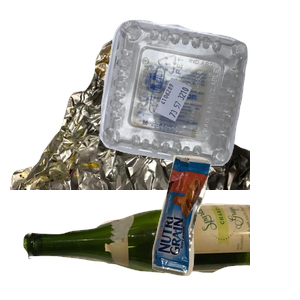glass: (21, 201, 261, 300)
metal: (10, 32, 250, 212)
plastic: (97, 17, 300, 176)
trash: (149, 152, 300, 300)
